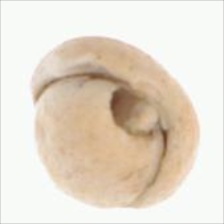L3: (105, 74, 172, 148)
L4: (31, 37, 200, 208)
